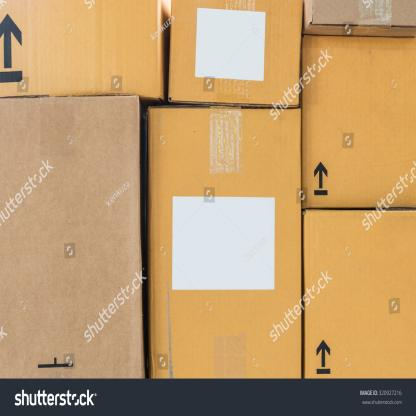box: (149, 106, 303, 377), (0, 98, 145, 378), (300, 32, 416, 207), (303, 210, 416, 376), (0, 0, 165, 99), (169, 0, 302, 106)
